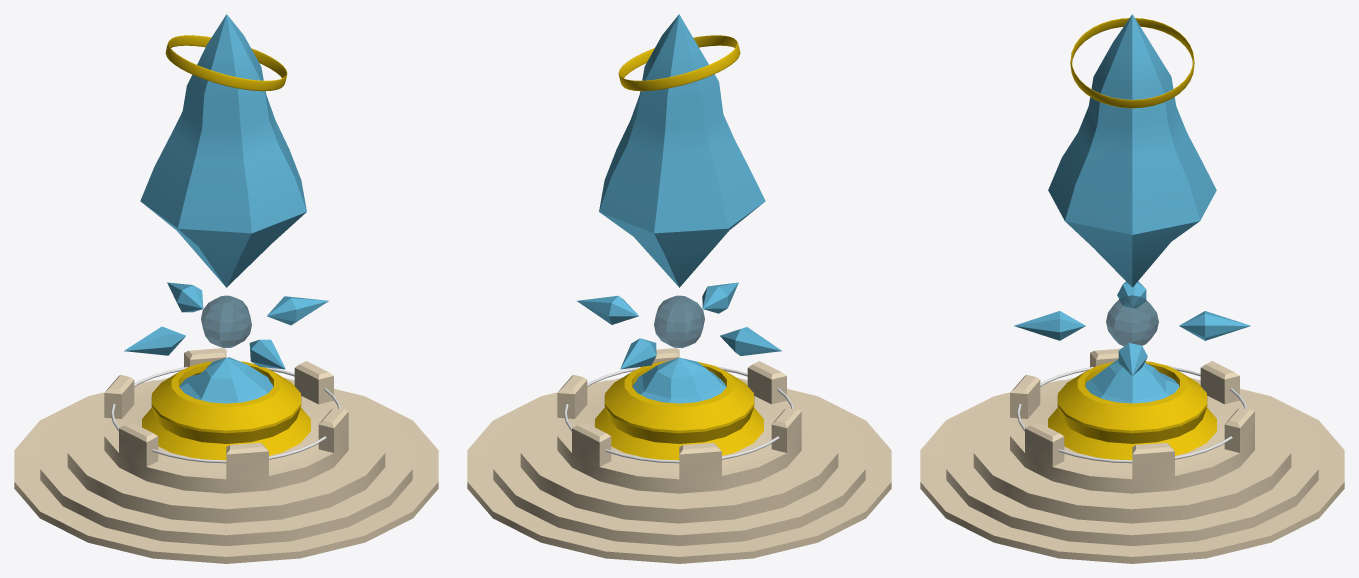
The model's file is Crystal Altar.fbx.
3 renders of one model, left to right at view 1: azimuth 30°, elevation 25°; view 2: azimuth 150°, elevation 25°; view 3: azimuth 270°, elevation 25°, orthographic.
Visible parts, largest first — view 1: CrystalAltar; view 2: CrystalAltar; view 3: CrystalAltar.
Boxes of the visible parts, x1=… form: CrystalAltar: x1=14, y1=14, x2=438, y2=563; CrystalAltar: x1=467, y1=14, x2=891, y2=563; CrystalAltar: x1=920, y1=14, x2=1344, y2=563.
Bounding box in the file's own units: 279 × 328 × 275.
